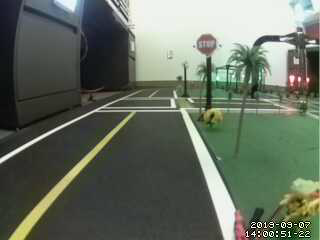Stop_Sign: (195, 31, 222, 57)
